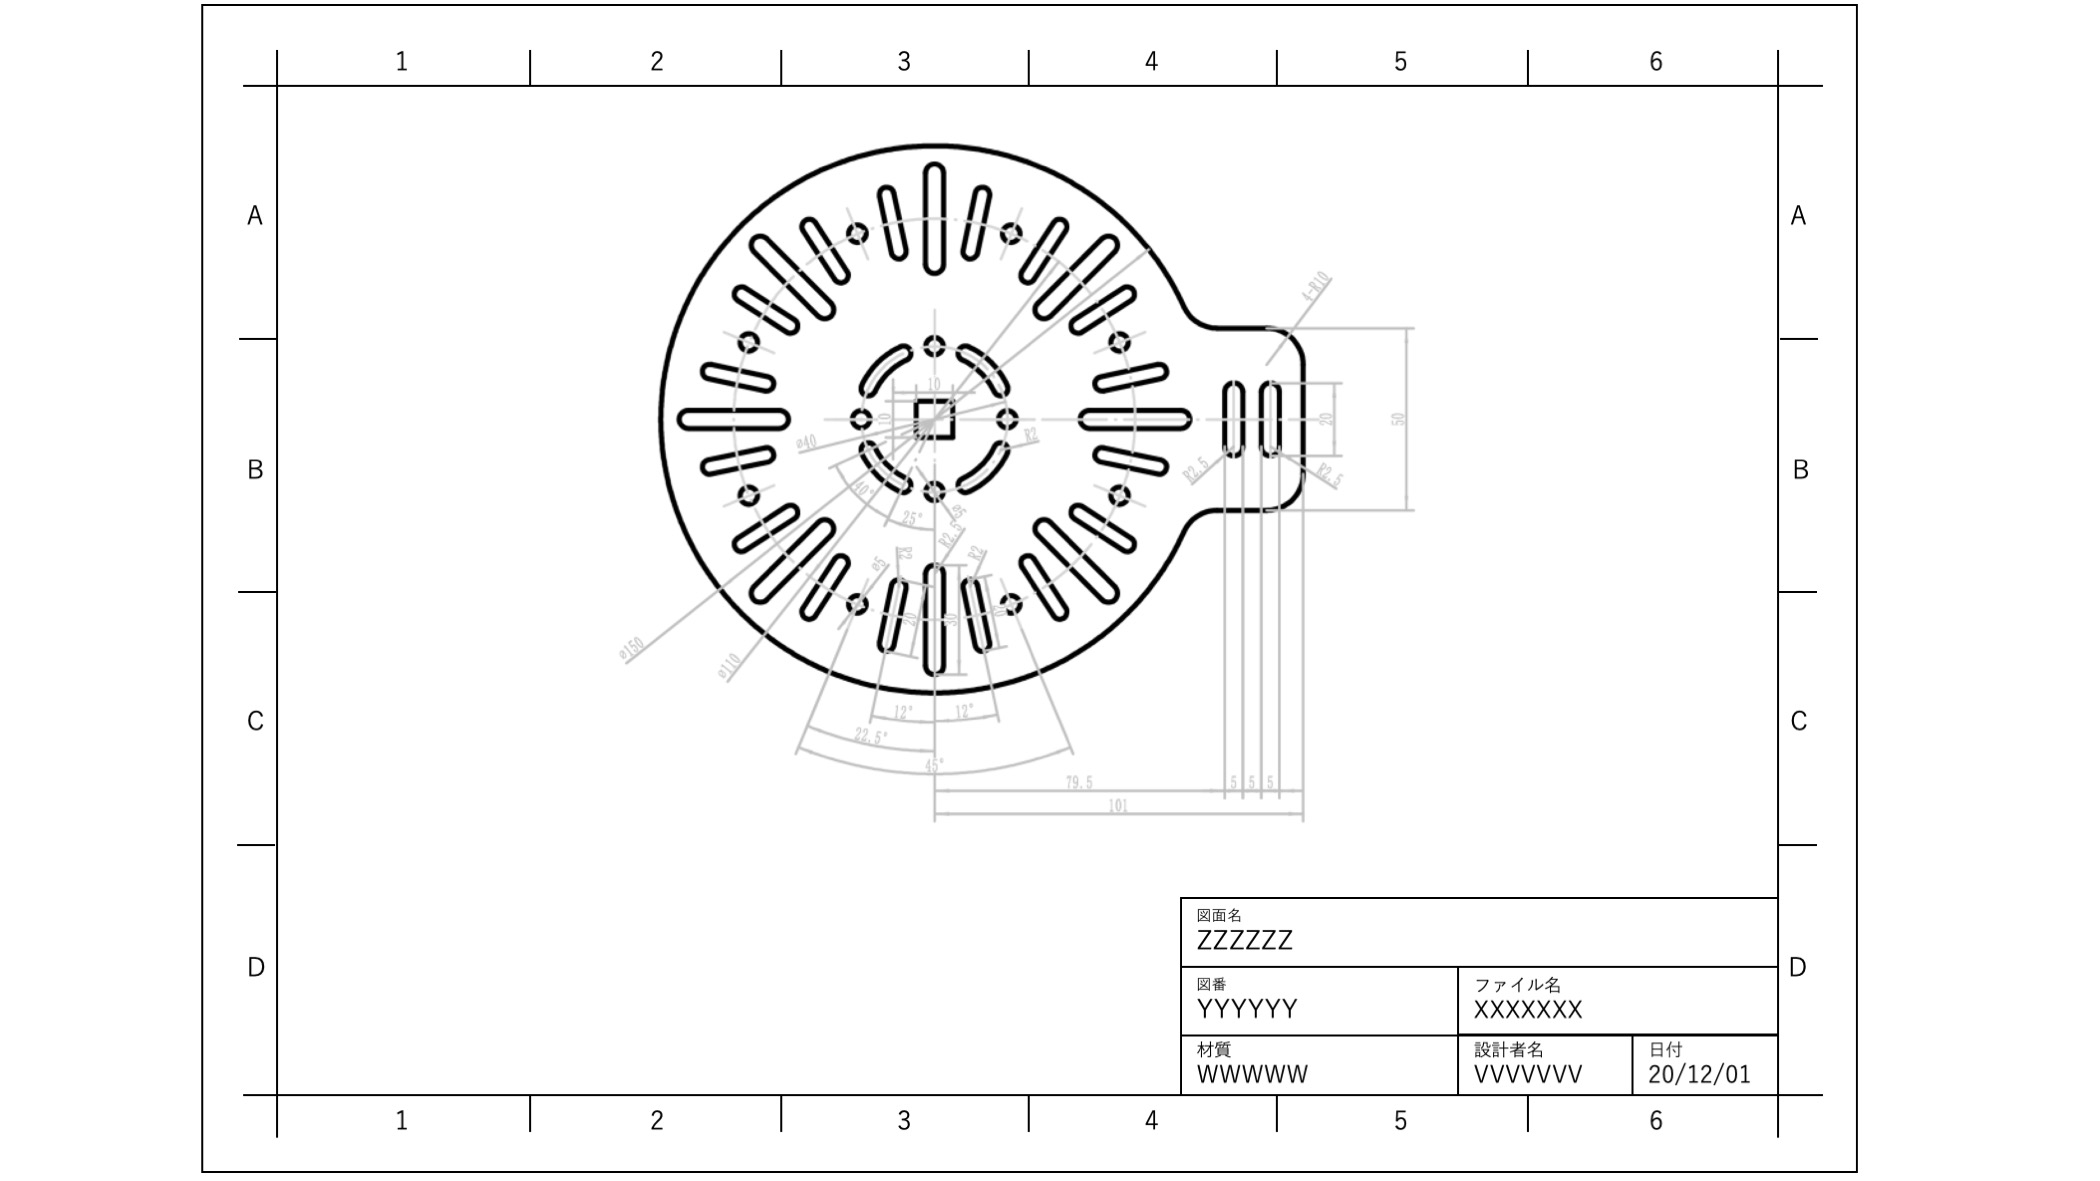circle: (837, 208, 867, 252), (992, 213, 1025, 245), (847, 407, 878, 435), (920, 474, 948, 508), (736, 474, 764, 505), (919, 330, 948, 361), (839, 590, 874, 614), (997, 585, 1025, 614), (1108, 480, 1137, 508), (1109, 324, 1132, 356), (733, 327, 759, 350), (997, 407, 1020, 433)
rectangle: (912, 394, 961, 441)
round_rectangle: (1028, 513, 1124, 613), (1031, 231, 1122, 322), (747, 516, 839, 601), (744, 239, 834, 324), (672, 395, 792, 438), (1064, 492, 1142, 551), (731, 273, 799, 340), (1017, 542, 1072, 624), (1060, 281, 1139, 336), (919, 559, 953, 678), (914, 149, 946, 277), (1020, 212, 1073, 286), (799, 548, 852, 622), (728, 499, 803, 551), (952, 335, 1012, 398), (953, 438, 1018, 496), (958, 571, 1001, 653), (795, 213, 844, 286), (1073, 404, 1199, 431), (854, 438, 913, 495), (697, 358, 777, 397), (860, 343, 914, 399), (870, 177, 906, 262), (700, 441, 785, 477), (1095, 443, 1175, 479), (875, 572, 912, 653), (1089, 361, 1173, 395), (1216, 371, 1248, 460), (1255, 369, 1285, 461), (962, 174, 994, 262)
